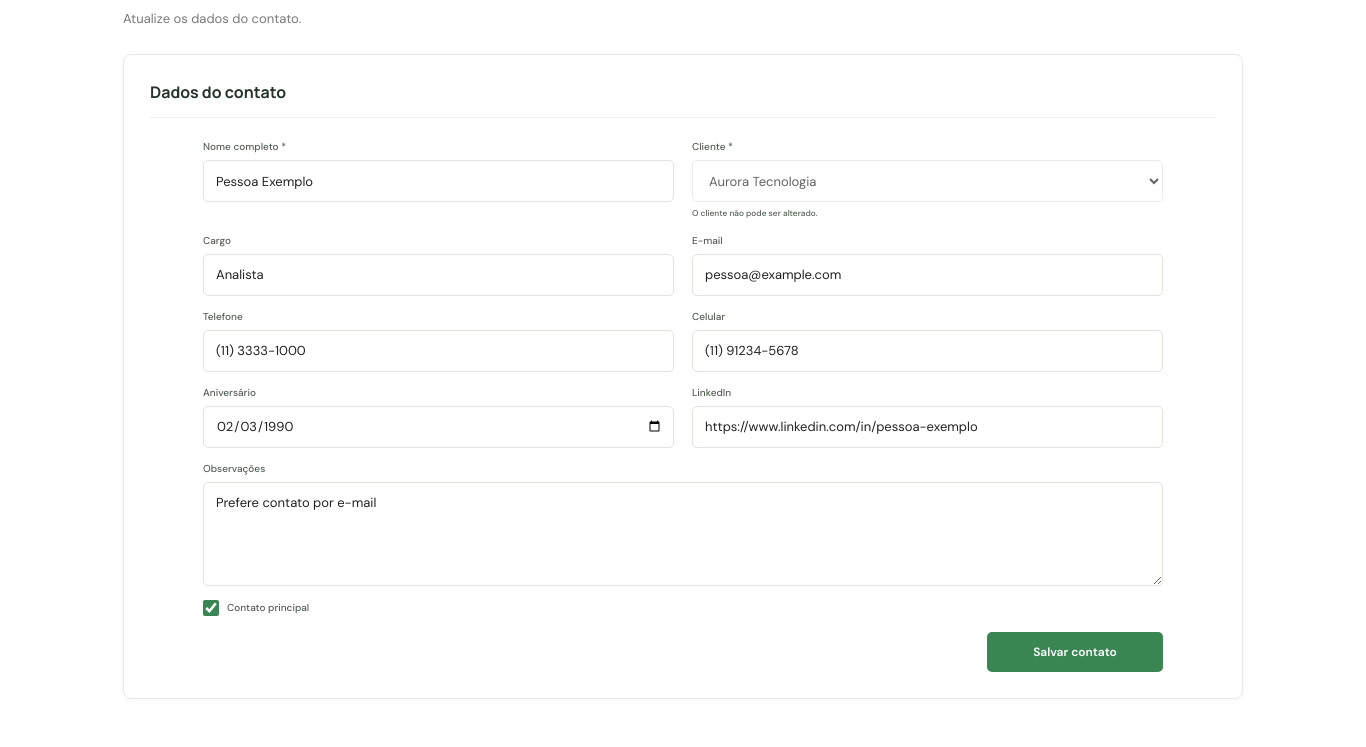
Test case: Editar contato › exibe a mensagem da API e permanece no formulário em caso de erro
(page scrolled)
Click the button "Salvar contato".
click(1075, 652)  # box top-left (987, 632), bottom-right (1163, 672)
(page scrolled)
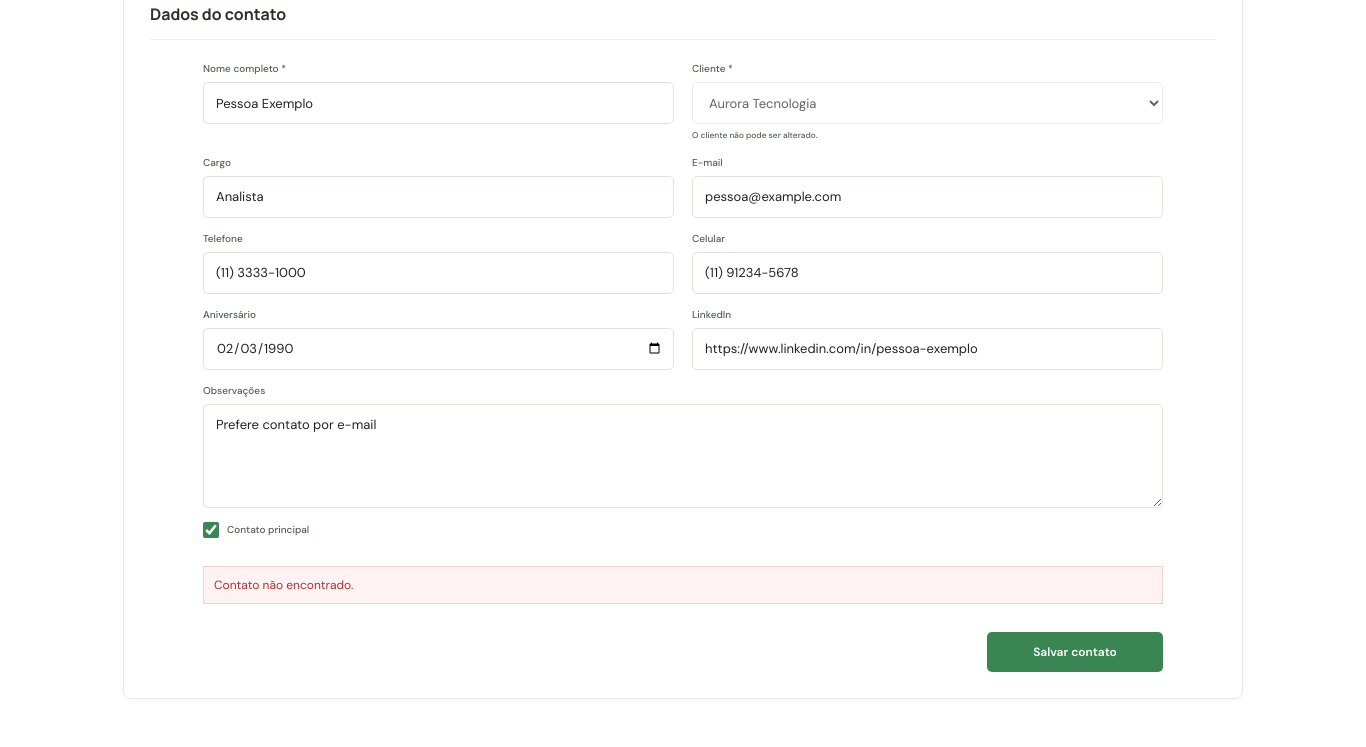
Result: the message reads "Contato não encontrado." at top-left (214, 577), bottom-right (354, 593)
